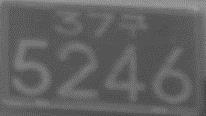2: (58, 42, 100, 100)
3: (53, 9, 83, 36)
4: (104, 43, 145, 102)
5: (12, 39, 52, 96)
6: (151, 45, 194, 104)
7: (87, 10, 114, 35)
구: (118, 12, 148, 37)
